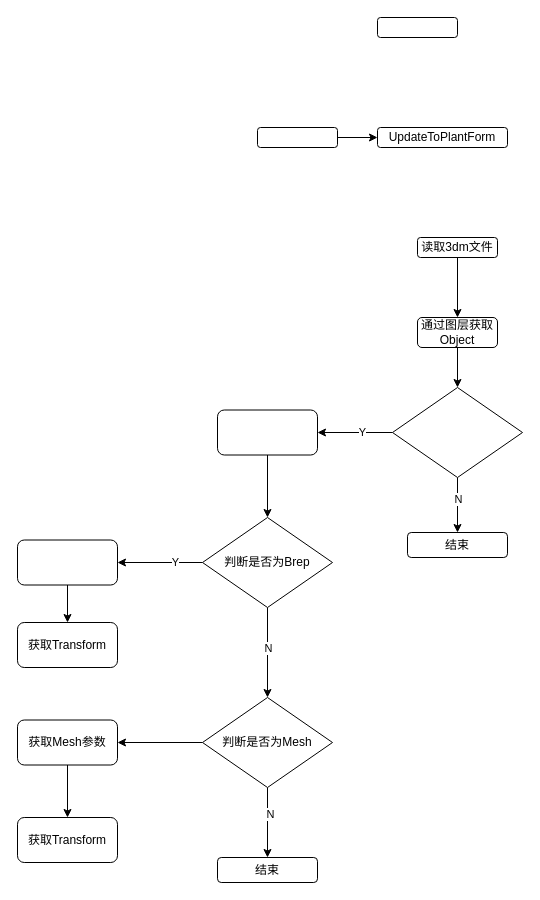
Image size: 540x900. Some labels were removed from this diagram. Each missing label, with the box of its shape:
ExportToGltf: (376, 16, 458, 38)
RevitAddin: (256, 126, 338, 148)
判断是否为 Instance Definition Geometry: (392, 386, 522, 478)
获取Brep参数: (16, 539, 118, 585)
获取几何图形: (216, 409, 318, 455)
